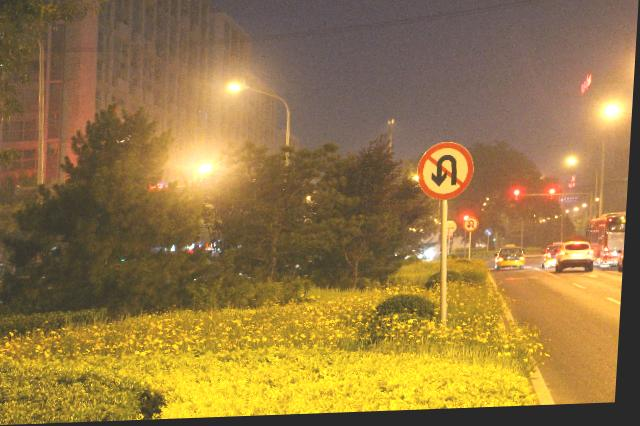not_u_turn_left: (412, 143, 480, 210)
